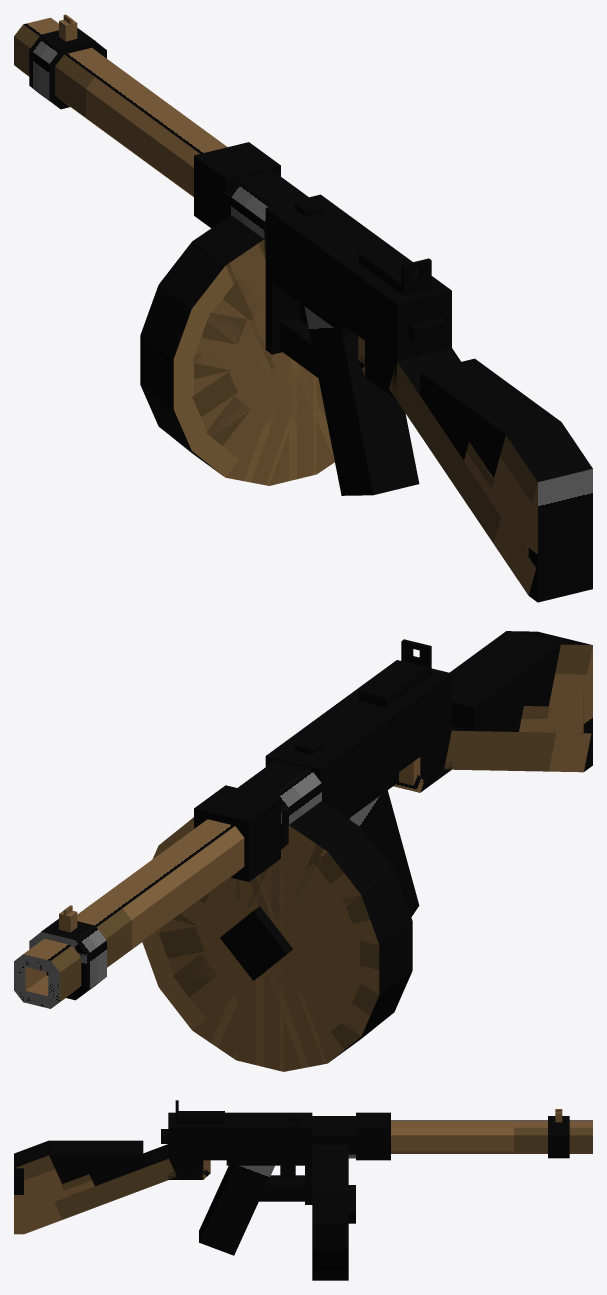
File: mteg_thompson.glb
3 views of the same model, one above another, from view 1: azimuth 30°, elevation 25°; view 2: azimuth 150°, elevation 25°; view 3: azimuth 270°, elevation 25° (orthographic). The views are drawn at different scales.
Visible parts, largest first — view 1: Gun; view 2: Gun; view 3: Gun.
Boxes of the visible parts, box(x1,y1,x2,y2) form: Gun: box(14, 14, 592, 602); Gun: box(14, 631, 592, 1071); Gun: box(14, 1100, 592, 1280).
Bounding box in the file's own units: 0.325 × 0.4 × 1.24.
1 material, 1 textured.
